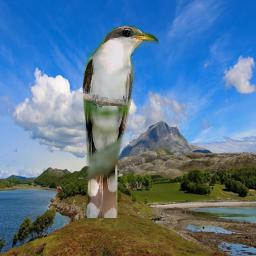Cuckoo: (81, 24, 159, 218)
